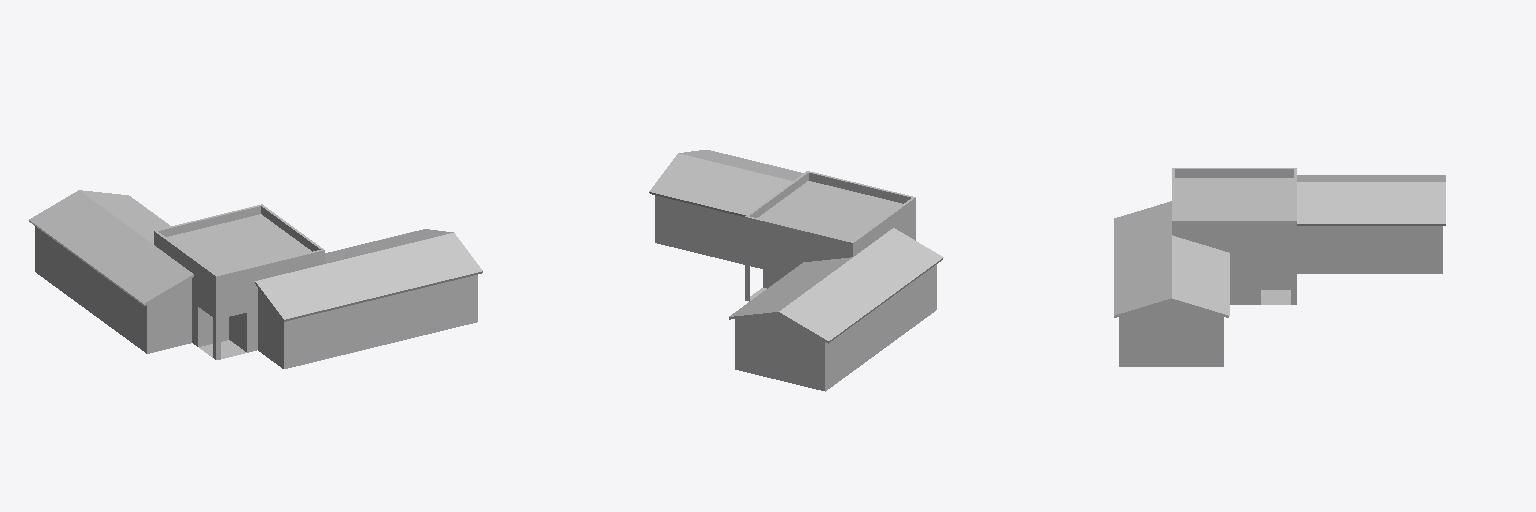
The model's file is Com_Office_sm.obj.
3 renders of one model, left to right at view 1: azimuth 30°, elevation 25°; view 2: azimuth 150°, elevation 25°; view 3: azimuth 270°, elevation 25°, orthographic.
Parts seen in each view (by area): view 1: Mesh98 Component_2_2 Model, Mesh49 Component_2_1 Model, Mesh99 Model; view 2: Mesh49 Component_2_1 Model, Mesh99 Model, Mesh98 Component_2_2 Model; view 3: Mesh98 Component_2_2 Model, Mesh99 Model, Mesh49 Component_2_1 Model.
Part boxes in pixels (bbox=[...]): Mesh98 Component_2_2 Model: bbox=[255, 229, 482, 368]; Mesh49 Component_2_1 Model: bbox=[29, 190, 193, 353]; Mesh99 Model: bbox=[154, 204, 324, 359]; Mesh49 Component_2_1 Model: bbox=[729, 228, 943, 391]; Mesh99 Model: bbox=[745, 171, 915, 301]; Mesh98 Component_2_2 Model: bbox=[649, 150, 803, 268]; Mesh98 Component_2_2 Model: bbox=[1114, 201, 1229, 366]; Mesh99 Model: bbox=[1172, 168, 1296, 304]; Mesh49 Component_2_1 Model: bbox=[1297, 175, 1445, 273].
Size of the model in its own units: 1337 by 372 by 1337.